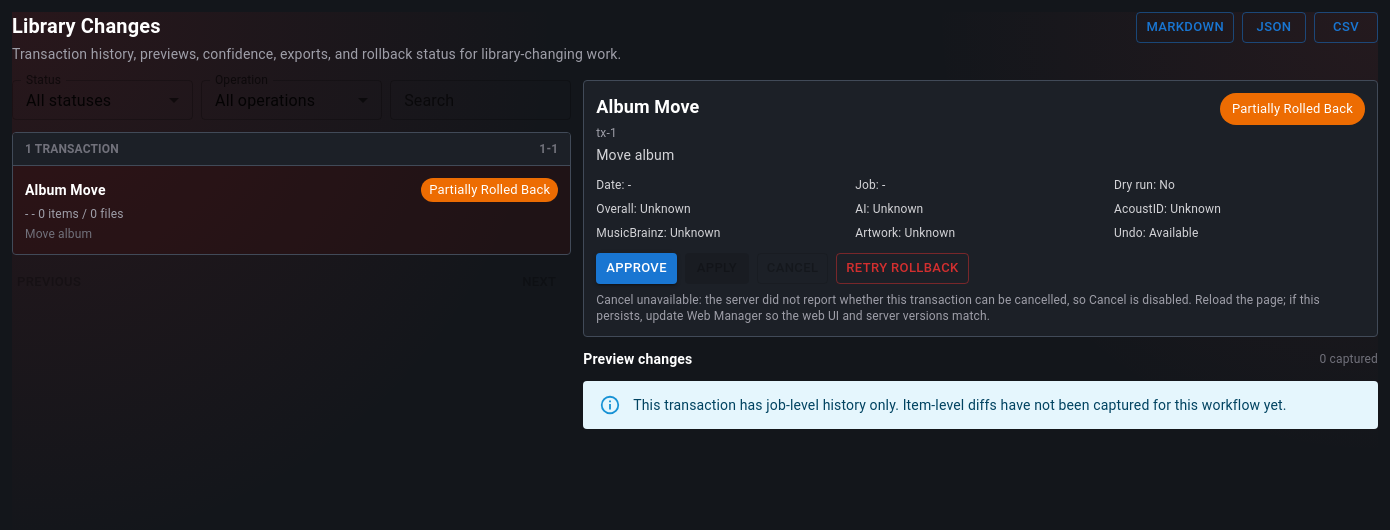
it: Library Changes 0.4 transaction contract (#348) › offers Retry Rollback for Partially Rolled Back and explains a partial result
Click the button "Retry Rollback" at (902, 268), box [836,253,969,284]
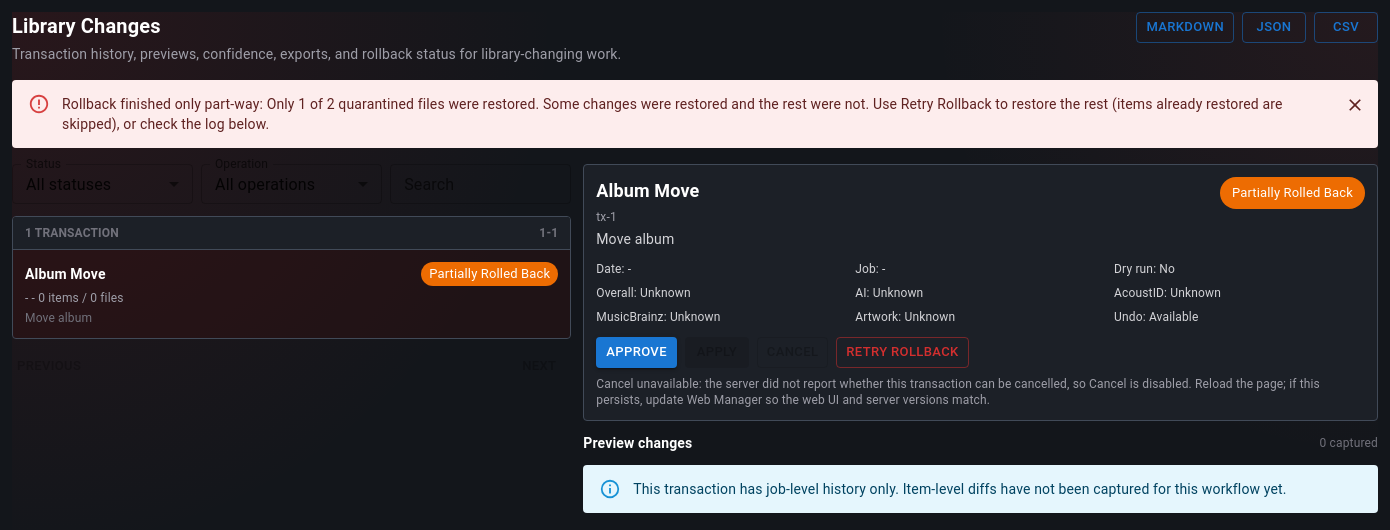
Expected: the text "finished only part-way" is shown, [62,96,1283,132]
